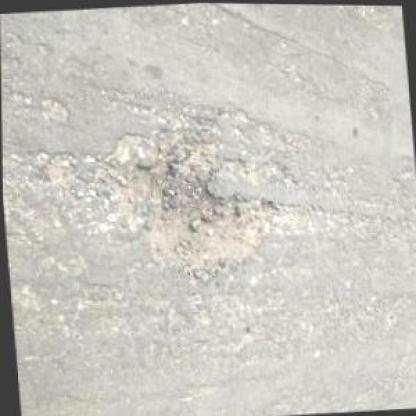pothole: (96, 128, 283, 294)
